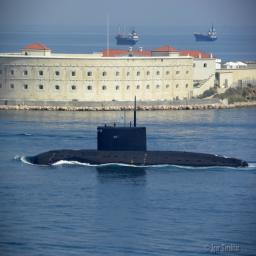submarine: (27, 98, 251, 169)
